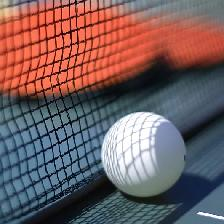WhiteBall: (100, 111, 186, 197)
